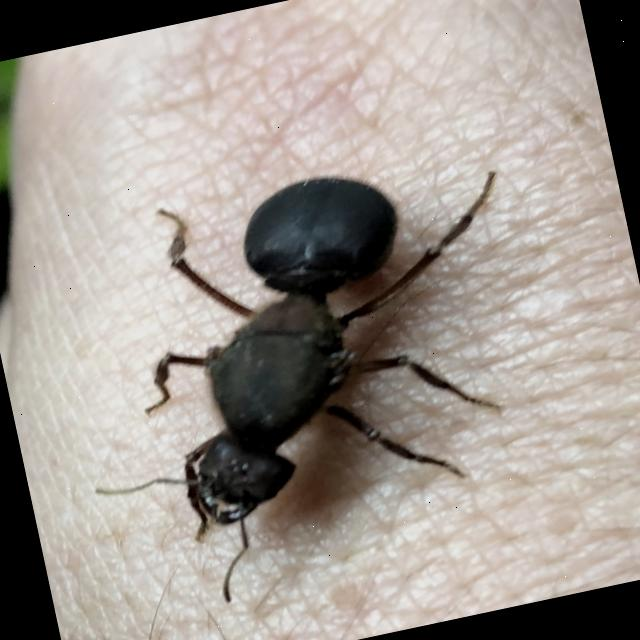Alive-Female-Dealate: (38, 136, 572, 626)
